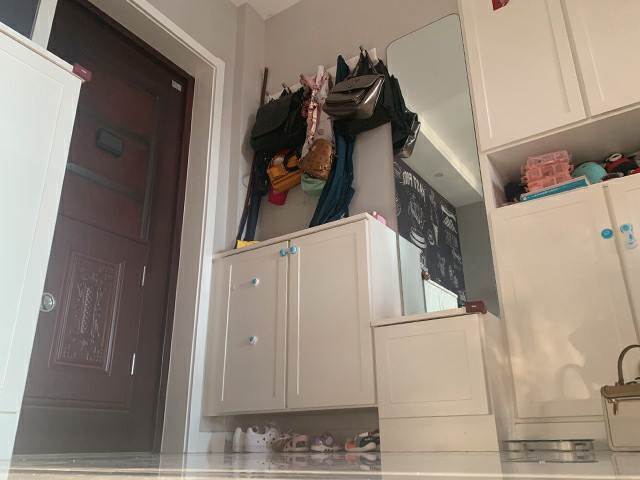cabinet: (458, 1, 640, 453), (369, 299, 504, 454)
